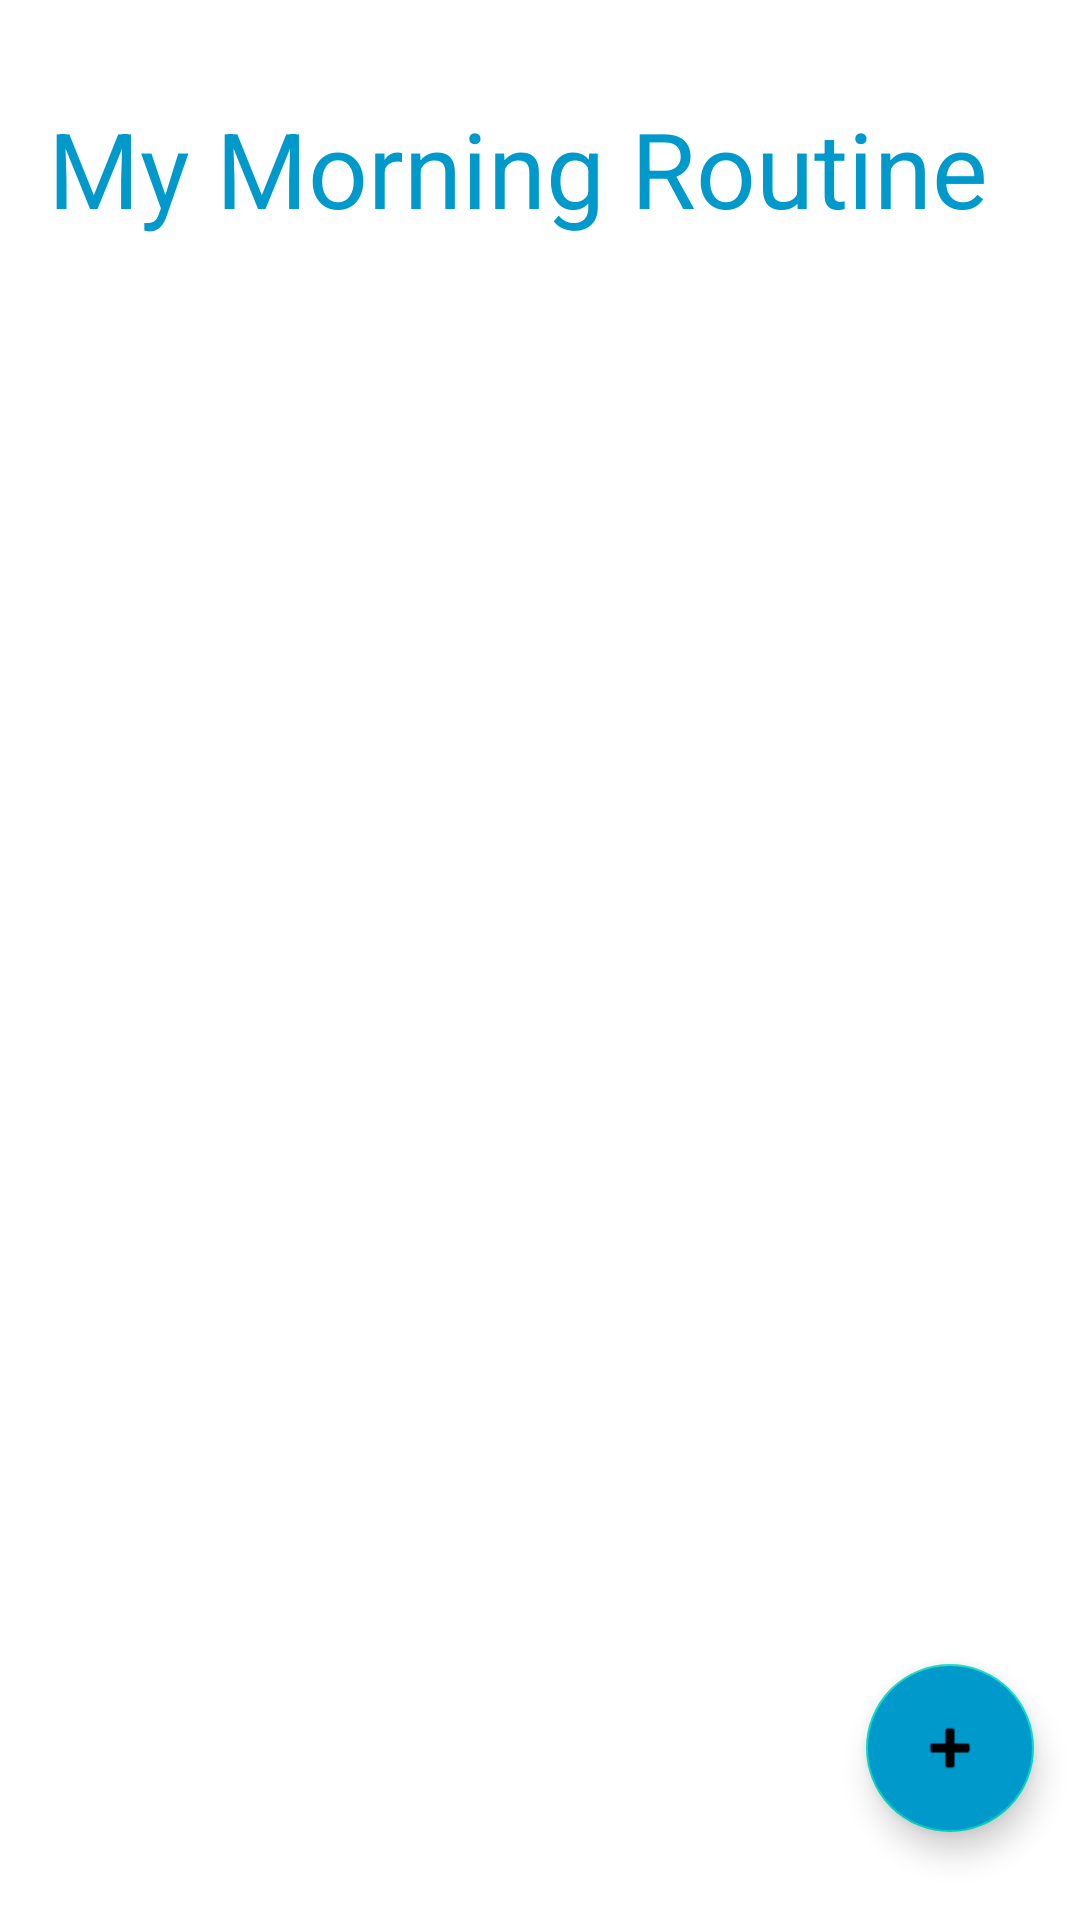

Screen size 1080px x 1920px. Icon name, then its center in pixels as [x,y]:
add: [950,1748]
